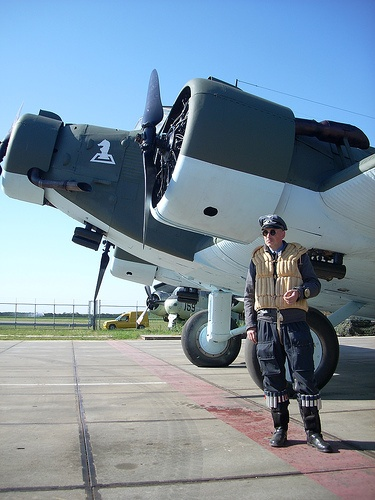head: (260, 212, 286, 252)
person: (243, 212, 331, 452)
